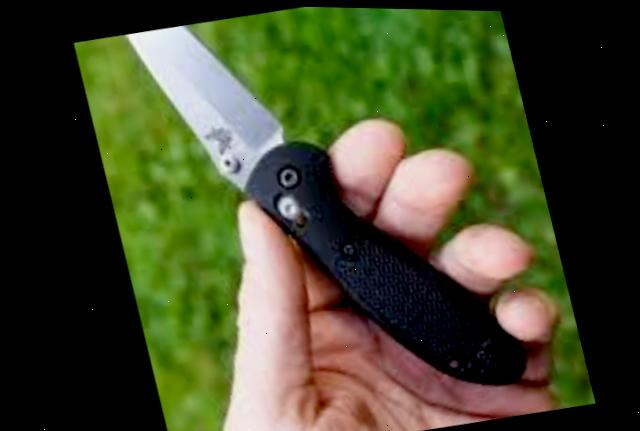pocket-knife: (100, 2, 545, 431)
